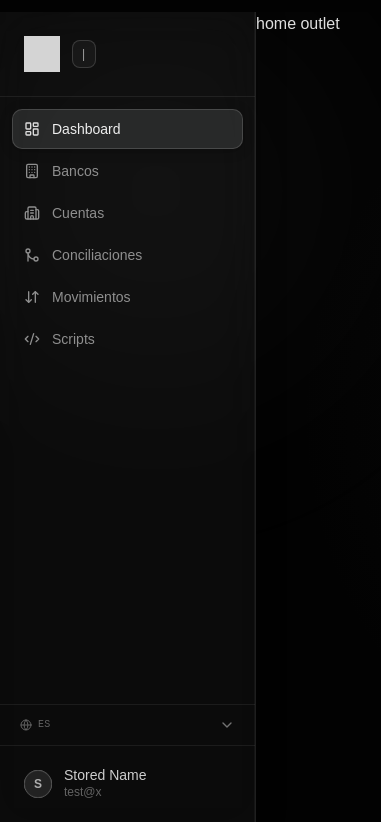
Test: AppLayout › navigates between routes when nav links are clicked
Click the link "Cuentas" at (64, 213), box [24, 205, 104, 221]
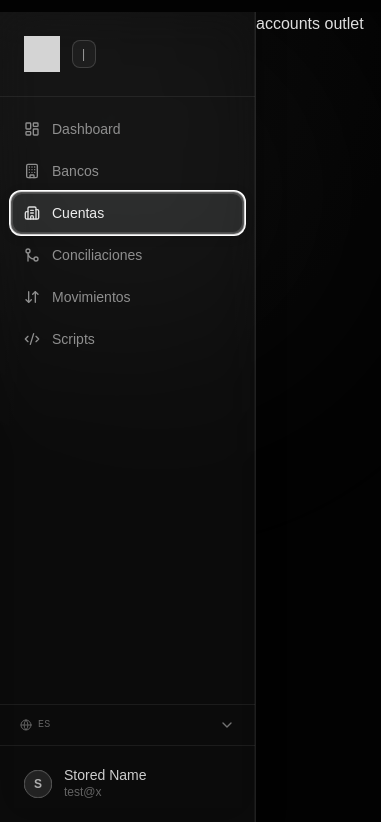
Check: the text "accounts outlet" is shown, box [256, 15, 364, 32]
